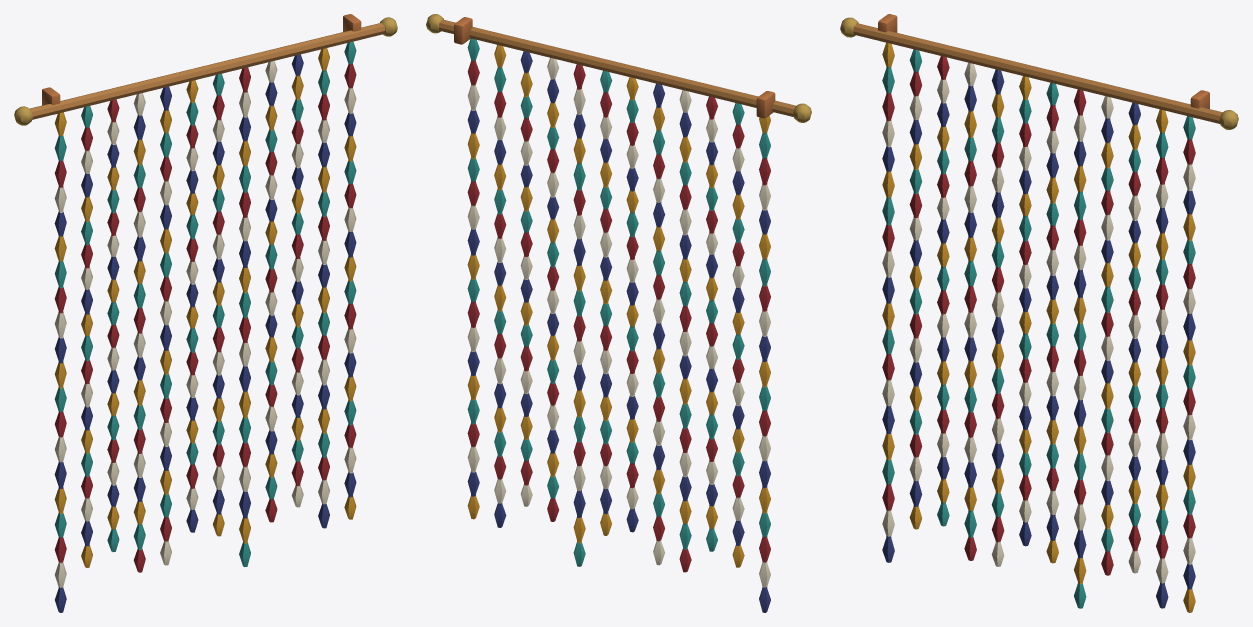
Rendered from deco_door_curtain_beaded.fbx.
3 views of the same model, side by side, from view 1: azimuth 30°, elevation 25°; view 2: azimuth 150°, elevation 25°; view 3: azimuth 330°, elevation 25° (orthographic). The views are drawn at different scales.
Visible parts, largest first — view 1: DoorCurtain_Beaded_Rod, DoorCurtain_Beaded_Strand1, DoorCurtain_Beaded_Strand8, DoorCurtain_Beaded_Strand4, DoorCurtain_Beaded_Strand12, DoorCurtain_Beaded_Strand11, DoorCurtain_Beaded_Strand5, DoorCurtain_Beaded_Strand7, DoorCurtain_Beaded_Strand9, DoorCurtain_Beaded_Strand2, DoorCurtain_Beaded_Strand10, DoorCurtain_Beaded_Strand6 (+1 smaller); view 2: DoorCurtain_Beaded_Rod, DoorCurtain_Beaded_Strand8, DoorCurtain_Beaded_Strand1, DoorCurtain_Beaded_Strand11, DoorCurtain_Beaded_Strand5, DoorCurtain_Beaded_Strand4, DoorCurtain_Beaded_Strand12, DoorCurtain_Beaded_Strand7, DoorCurtain_Beaded_Strand9, DoorCurtain_Beaded_Strand2, DoorCurtain_Beaded_Strand3, DoorCurtain_Beaded_Strand6 (+1 smaller); view 3: DoorCurtain_Beaded_Rod, DoorCurtain_Beaded_Strand1, DoorCurtain_Beaded_Strand8, DoorCurtain_Beaded_Strand12, DoorCurtain_Beaded_Strand4, DoorCurtain_Beaded_Strand5, DoorCurtain_Beaded_Strand11, DoorCurtain_Beaded_Strand9, DoorCurtain_Beaded_Strand7, DoorCurtain_Beaded_Strand2, DoorCurtain_Beaded_Strand10, DoorCurtain_Beaded_Strand6 (+1 smaller).
Part boxes in pixels (<box>): DoorCurtain_Beaded_Rod: <box>14,14,397,125</box>; DoorCurtain_Beaded_Strand1: <box>54,112,66,612</box>; DoorCurtain_Beaded_Strand8: <box>239,67,250,566</box>; DoorCurtain_Beaded_Strand4: <box>133,93,145,572</box>; DoorCurtain_Beaded_Strand12: <box>344,41,356,519</box>; DoorCurtain_Beaded_Strand11: <box>318,48,329,528</box>; DoorCurtain_Beaded_Strand5: <box>160,86,171,565</box>; DoorCurtain_Beaded_Strand7: <box>212,73,224,536</box>; DoorCurtain_Beaded_Strand9: <box>265,61,277,522</box>; DoorCurtain_Beaded_Strand2: <box>81,106,92,567</box>; DoorCurtain_Beaded_Strand10: <box>291,54,303,507</box>; DoorCurtain_Beaded_Strand6: <box>186,80,198,532</box>; DoorCurtain_Beaded_Rod: <box>426,14,811,122</box>; DoorCurtain_Beaded_Strand8: <box>573,64,585,566</box>; DoorCurtain_Beaded_Strand1: <box>759,115,770,612</box>; DoorCurtain_Beaded_Strand11: <box>494,45,506,527</box>; DoorCurtain_Beaded_Strand5: <box>653,83,665,565</box>; DoorCurtain_Beaded_Strand4: <box>679,90,691,572</box>; DoorCurtain_Beaded_Strand12: <box>467,38,479,519</box>; DoorCurtain_Beaded_Strand7: <box>600,70,612,535</box>; DoorCurtain_Beaded_Strand9: <box>547,57,559,521</box>; DoorCurtain_Beaded_Strand2: <box>732,103,744,567</box>; DoorCurtain_Beaded_Strand3: <box>706,96,717,551</box>; DoorCurtain_Beaded_Strand6: <box>626,77,638,532</box>; DoorCurtain_Beaded_Rod: <box>840,14,1238,129</box>; DoorCurtain_Beaded_Strand1: <box>882,42,894,562</box>; DoorCurtain_Beaded_Strand8: <box>1074,89,1086,608</box>; DoorCurtain_Beaded_Strand12: <box>1183,116,1195,612</box>; DoorCurtain_Beaded_Strand4: <box>964,62,976,560</box>; DoorCurtain_Beaded_Strand5: <box>991,69,1004,566</box>; DoorCurtain_Beaded_Strand11: <box>1156,109,1168,608</box>; DoorCurtain_Beaded_Strand9: <box>1101,96,1113,575</box>; DoorCurtain_Beaded_Strand7: <box>1046,82,1058,563</box>; DoorCurtain_Beaded_Strand2: <box>909,49,922,529</box>; DoorCurtain_Beaded_Strand10: <box>1128,102,1140,573</box>; DoorCurtain_Beaded_Strand6: <box>1019,76,1031,546</box>.
Size of the model in its own units: 203 by 264 by 13.5.
